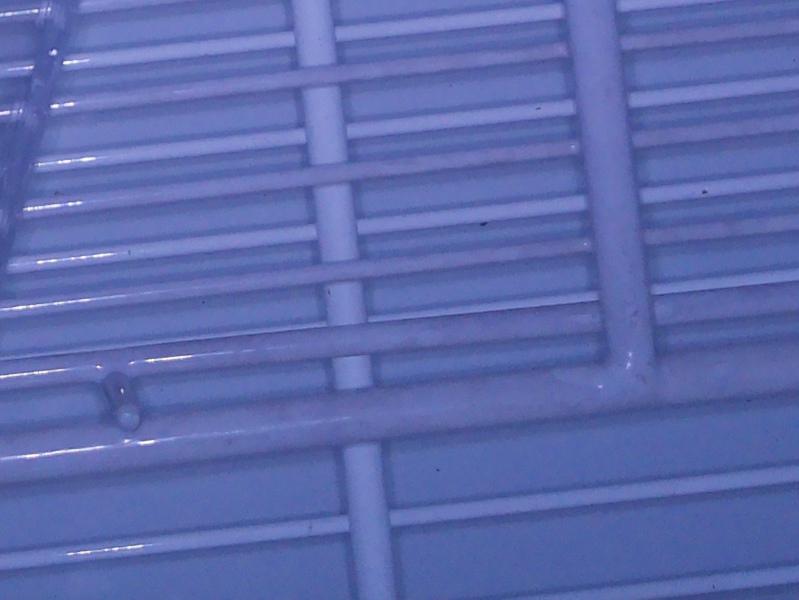plate: (1, 1, 80, 290)
